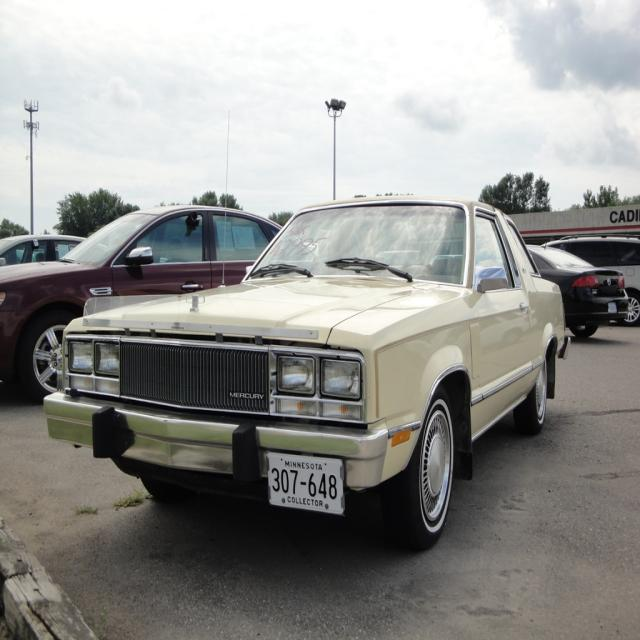car: (50, 192, 568, 551)
